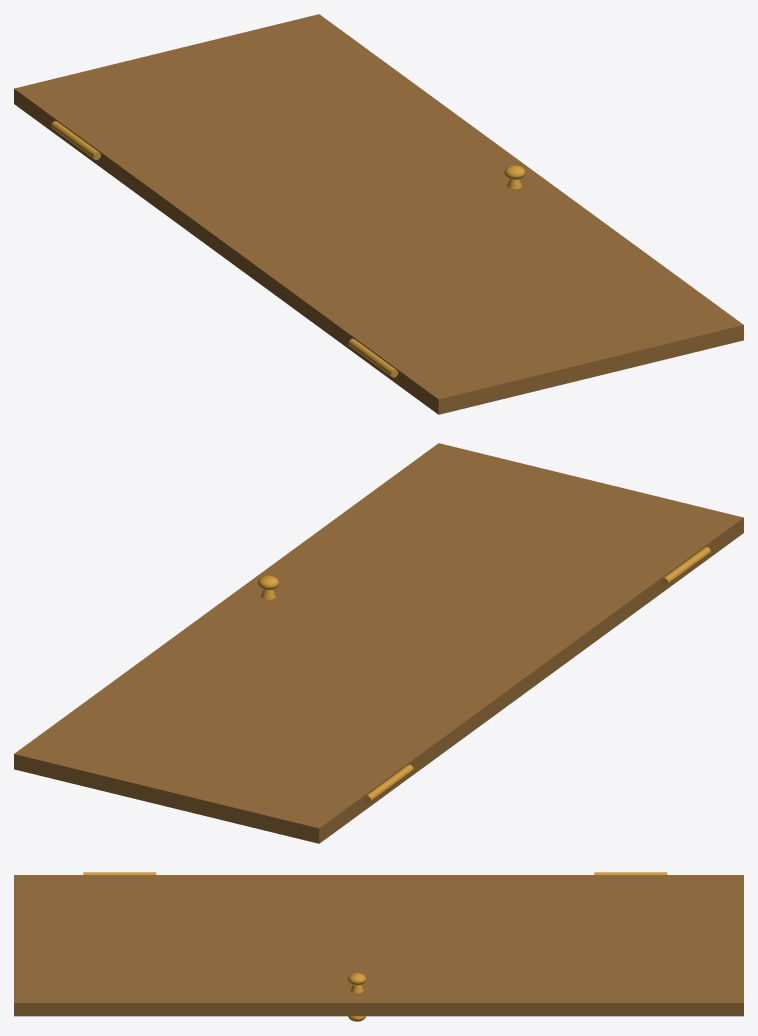
The model's file is door-006.dae.
3 renders of one model, top to bottom at view 1: azimuth 30°, elevation 25°; view 2: azimuth 150°, elevation 25°; view 3: azimuth 270°, elevation 25°, orthographic. The views are drawn at different scales.
Visible parts, largest first — view 1: Door, Fittings; view 2: Door, Fittings; view 3: Door, Fittings.
Boxes of the visible parts, left/top/right/bottom form: Door: left=14, top=14, right=743, bottom=414; Fittings: left=51, top=121, right=525, bottom=377; Door: left=14, top=443, right=743, bottom=843; Fittings: left=258, top=547, right=710, bottom=803; Door: left=14, top=875, right=743, bottom=1016; Fittings: left=83, top=872, right=667, bottom=1021.
Bounding box in the file's own units: 0.85 × 2 × 0.14.
